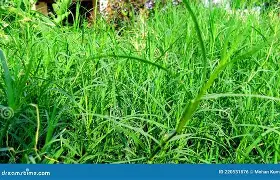weed: (0, 4, 279, 162)
